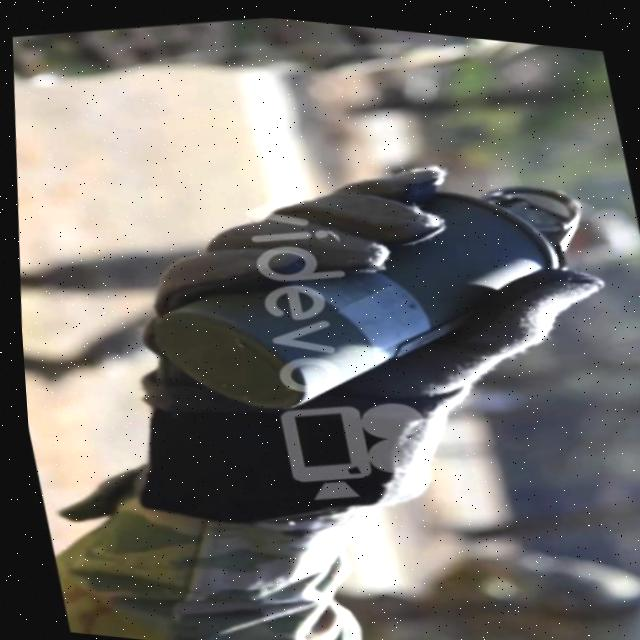grenade: (101, 116, 632, 457)
